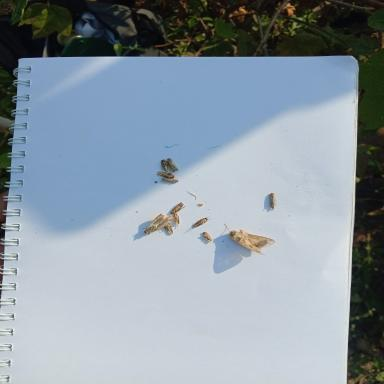abw: (228, 230, 270, 254), (136, 209, 173, 234)
pbw: (266, 190, 277, 211), (191, 216, 210, 228), (170, 202, 186, 214), (157, 170, 177, 179), (158, 158, 170, 172), (168, 157, 179, 172), (160, 177, 180, 185), (172, 213, 183, 227), (202, 232, 213, 242)
